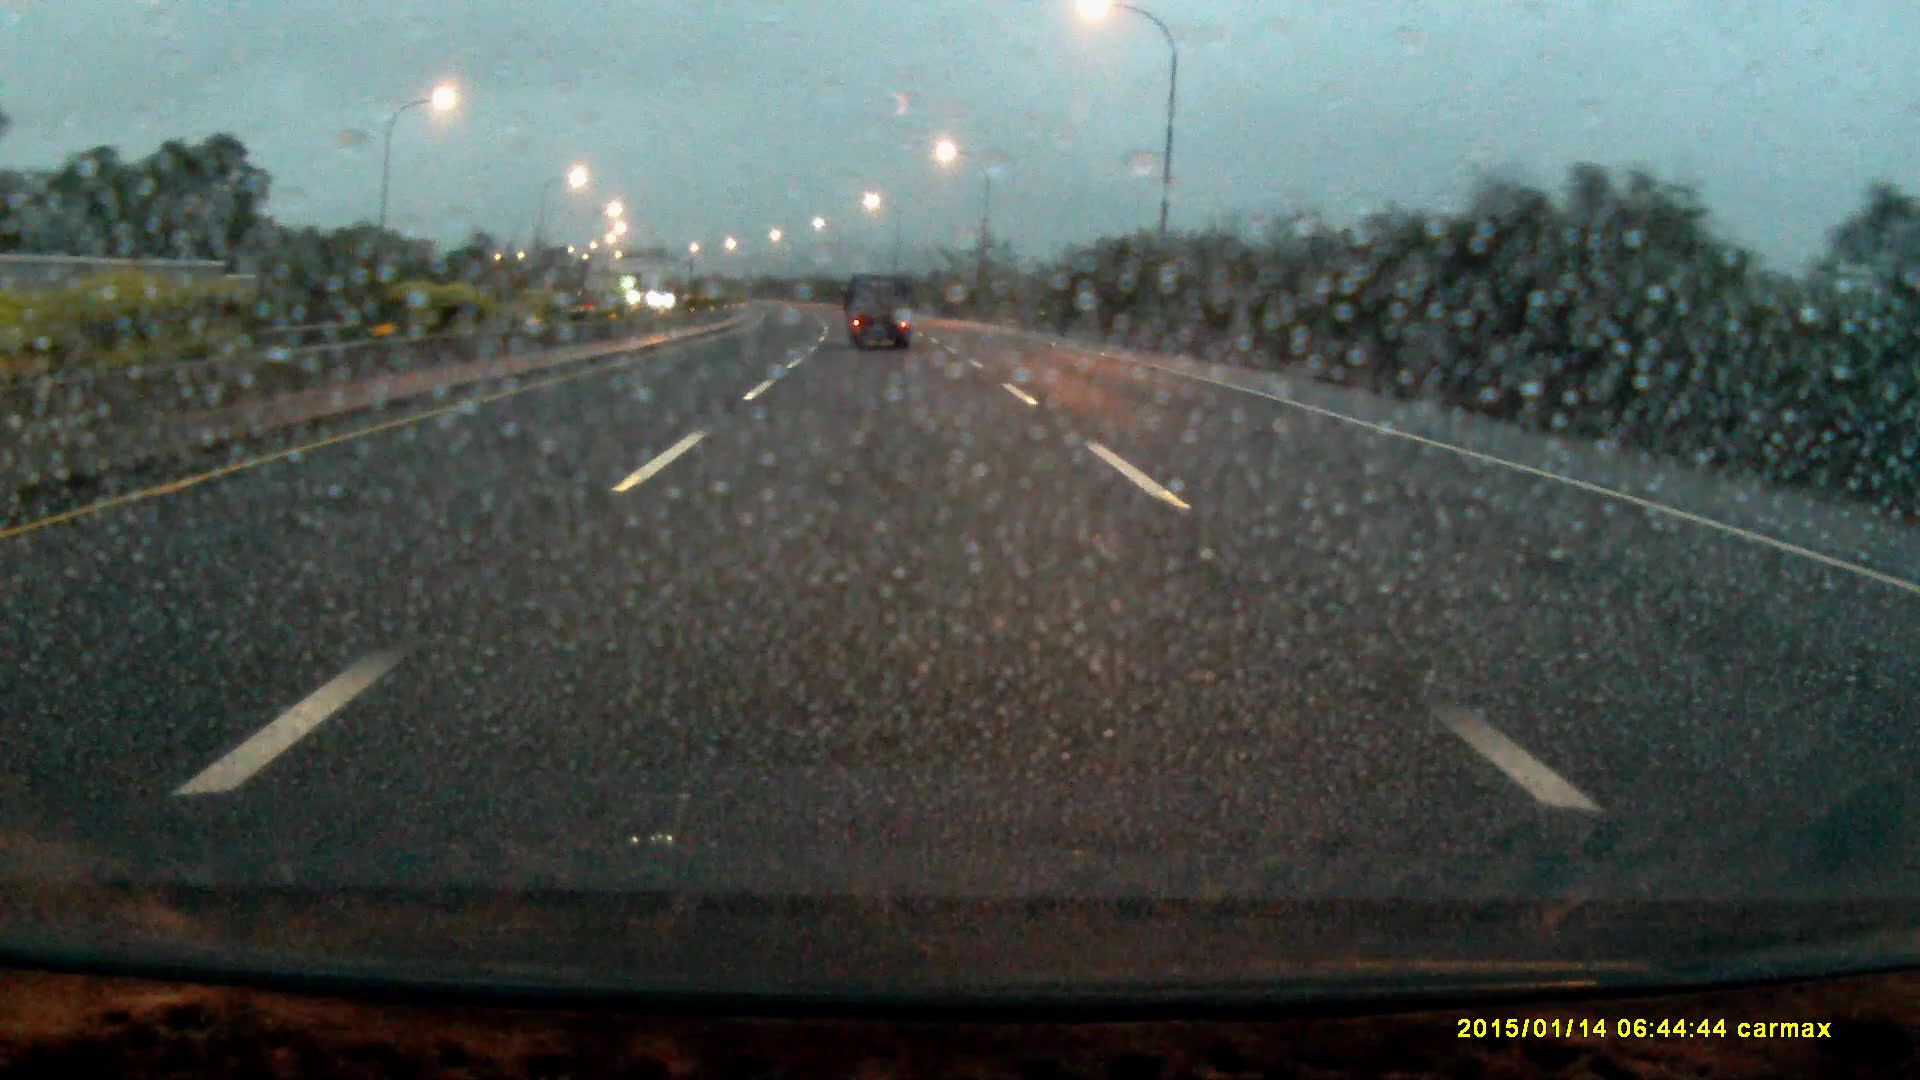vehicle: (845, 272, 915, 353)
